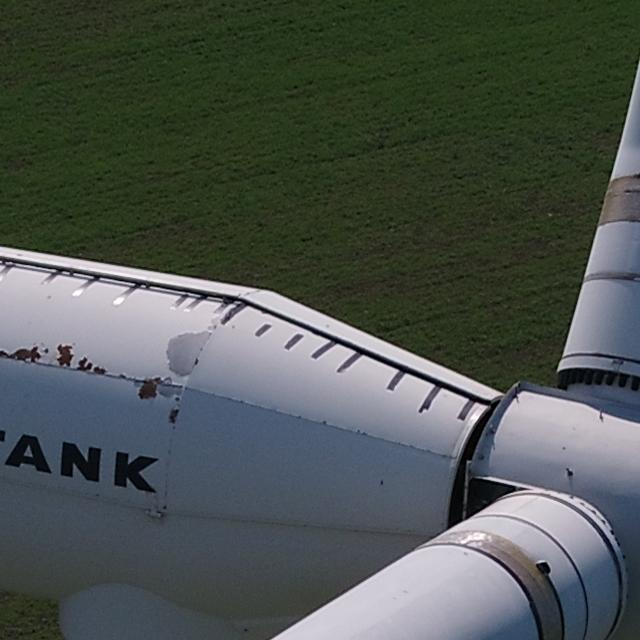damage: (163, 328, 212, 377), (1, 342, 43, 368), (136, 374, 161, 403), (55, 340, 75, 369), (77, 350, 91, 378), (165, 407, 183, 427), (89, 364, 112, 377)
